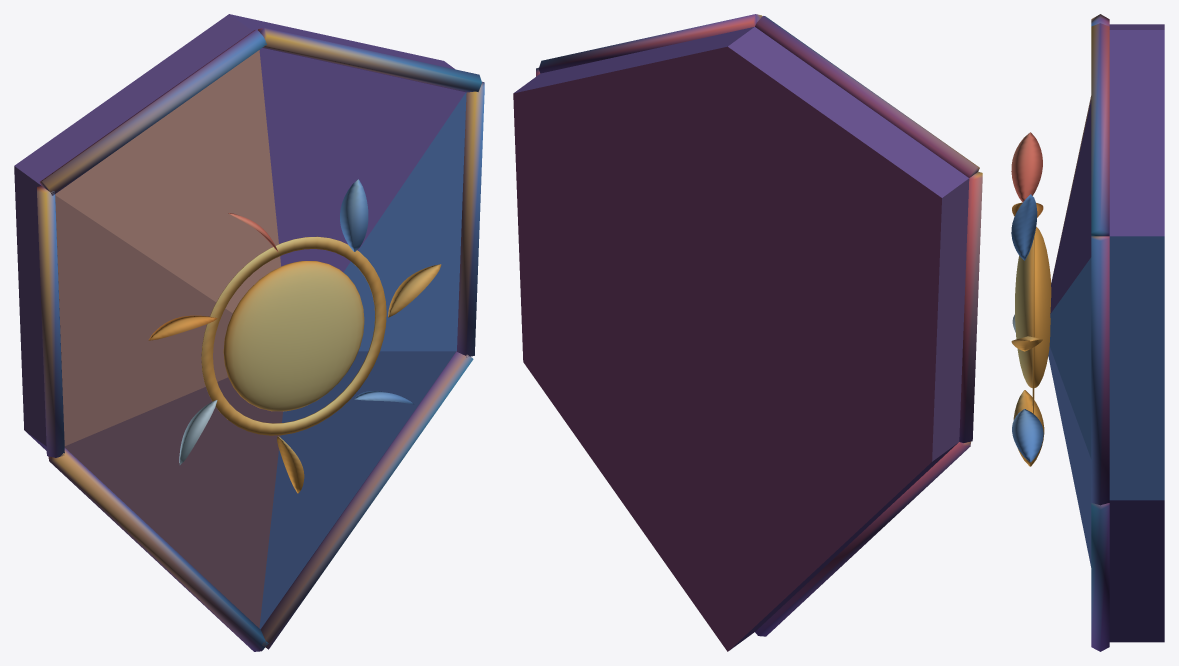
The model's file is Fusion_Shield.glb.
The picture shows the model from 3 angles, left to right: view 1: azimuth 30°, elevation 25°; view 2: azimuth 150°, elevation 25°; view 3: azimuth 270°, elevation 25°; orthographic projection.
Visible parts, largest first — view 1: Fusion_Shield; view 2: Fusion_Shield; view 3: Fusion_Shield.
Part boxes in pixels (<box>): Fusion_Shield: <box>14,14,484,651</box>; Fusion_Shield: <box>513,14,982,651</box>; Fusion_Shield: <box>1011,14,1164,651</box>.
Bounding box in the file's own units: 0.896 × 1.19 × 0.2628.
